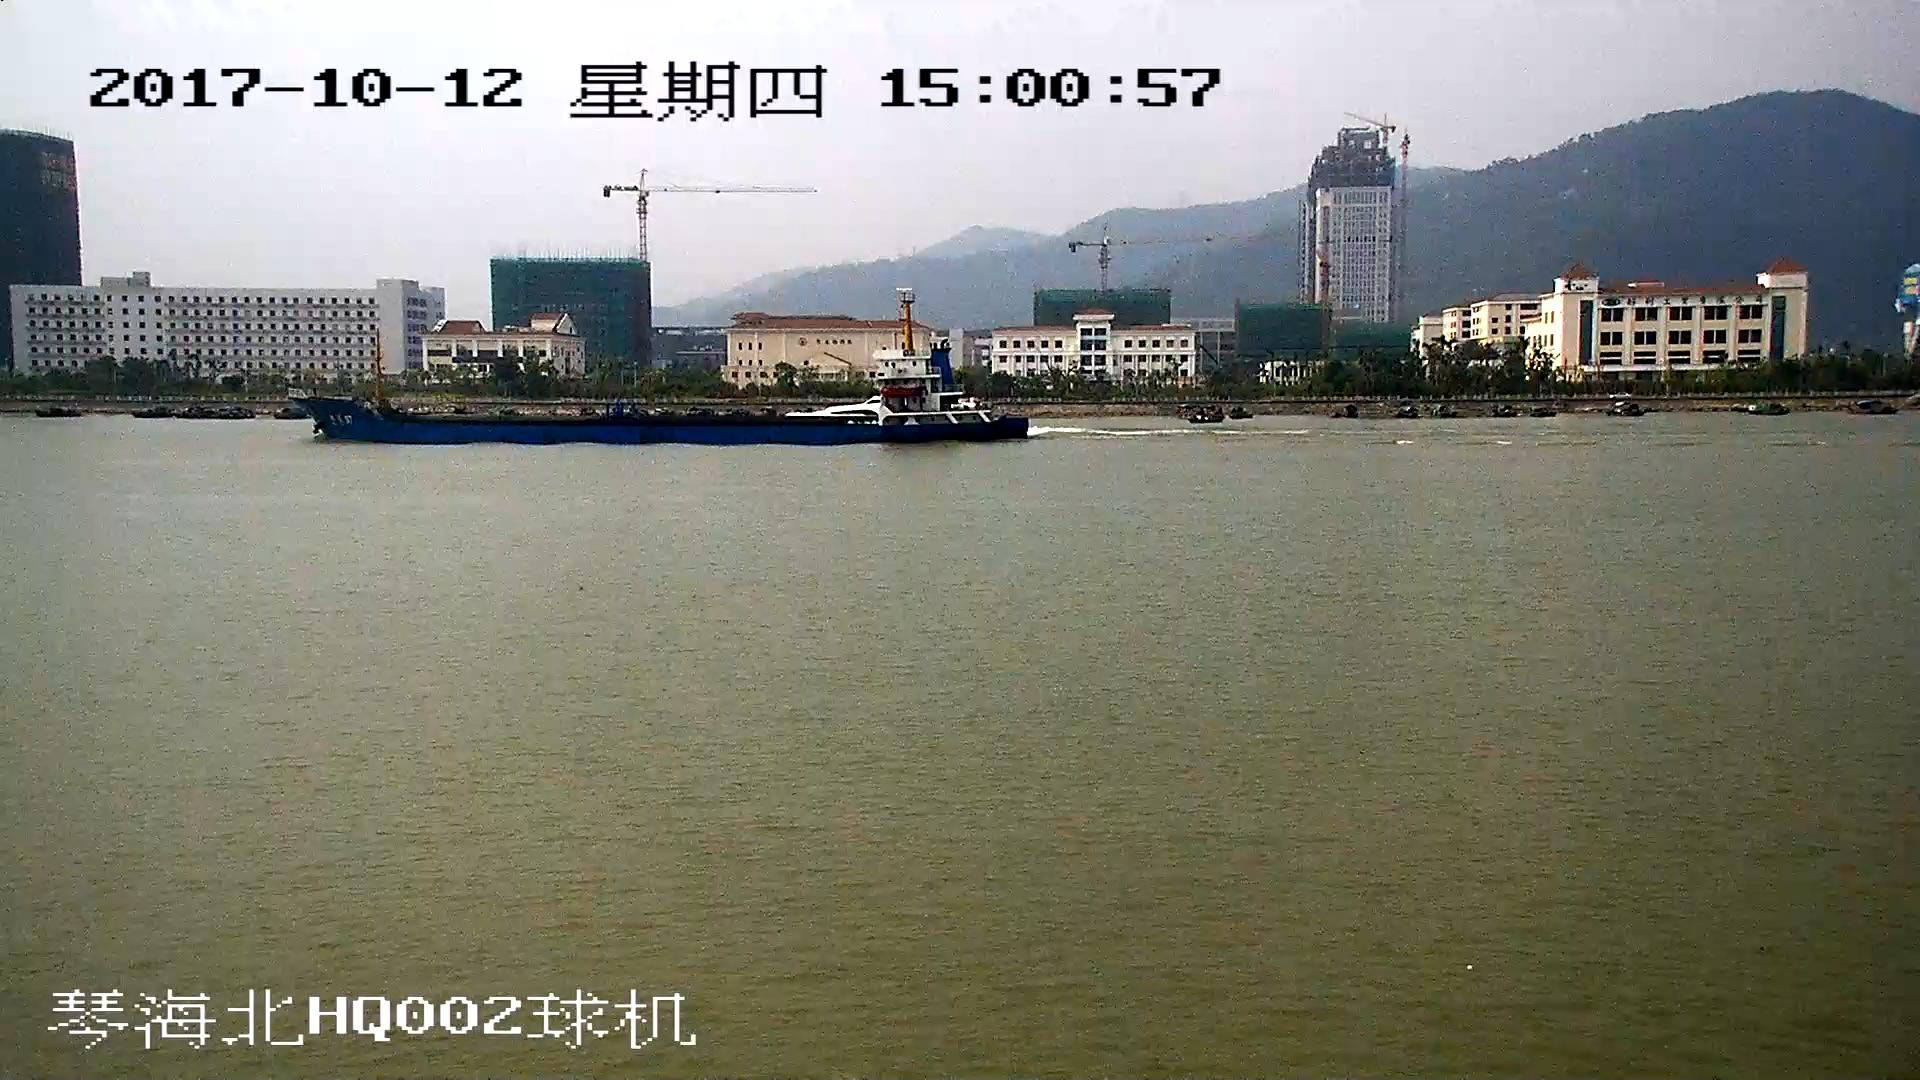general cargo ship: (290, 291, 1035, 446)
